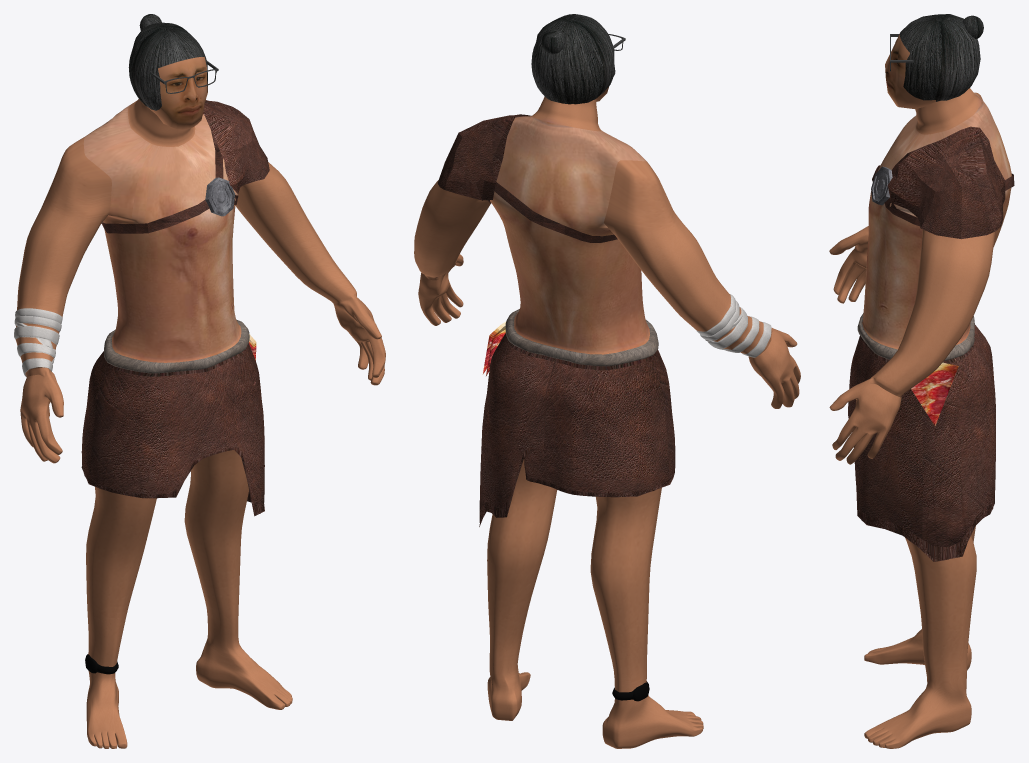
The model's file is Saymond.fbx.
3 views of the same model, side by side, from view 1: azimuth 30°, elevation 25°; view 2: azimuth 150°, elevation 25°; view 3: azimuth 270°, elevation 25° (orthographic). The views are drawn at different scales.
Visible parts, largest first — view 1: Kropp_pasted__group4; view 2: Kropp_pasted__group4; view 3: Kropp_pasted__group4.
Part boxes in pixels (bbox=[...]): Kropp_pasted__group4: bbox=[14, 14, 385, 748]; Kropp_pasted__group4: bbox=[414, 14, 800, 748]; Kropp_pasted__group4: bbox=[829, 14, 1014, 748].
Bounding box in the file's own units: 6.06 × 11.32 × 2.78.
14 materials, 11 textured.
